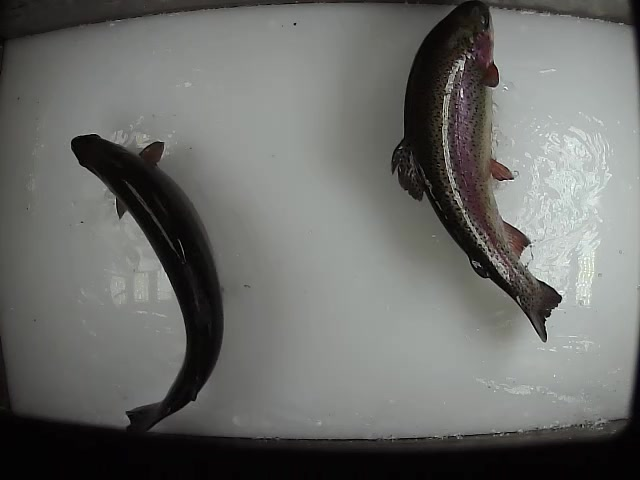fish: (388, 2, 563, 344), (69, 131, 225, 441)
